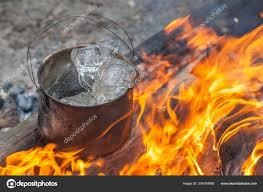fire: (120, 20, 263, 176), (0, 137, 98, 175)
